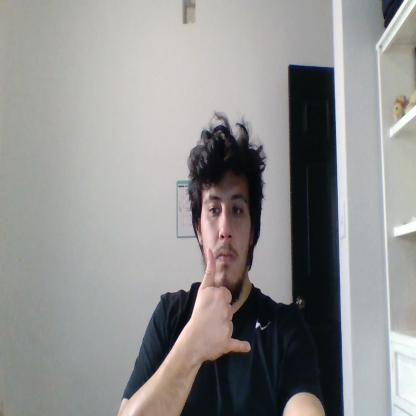Y: (192, 246, 250, 362)
